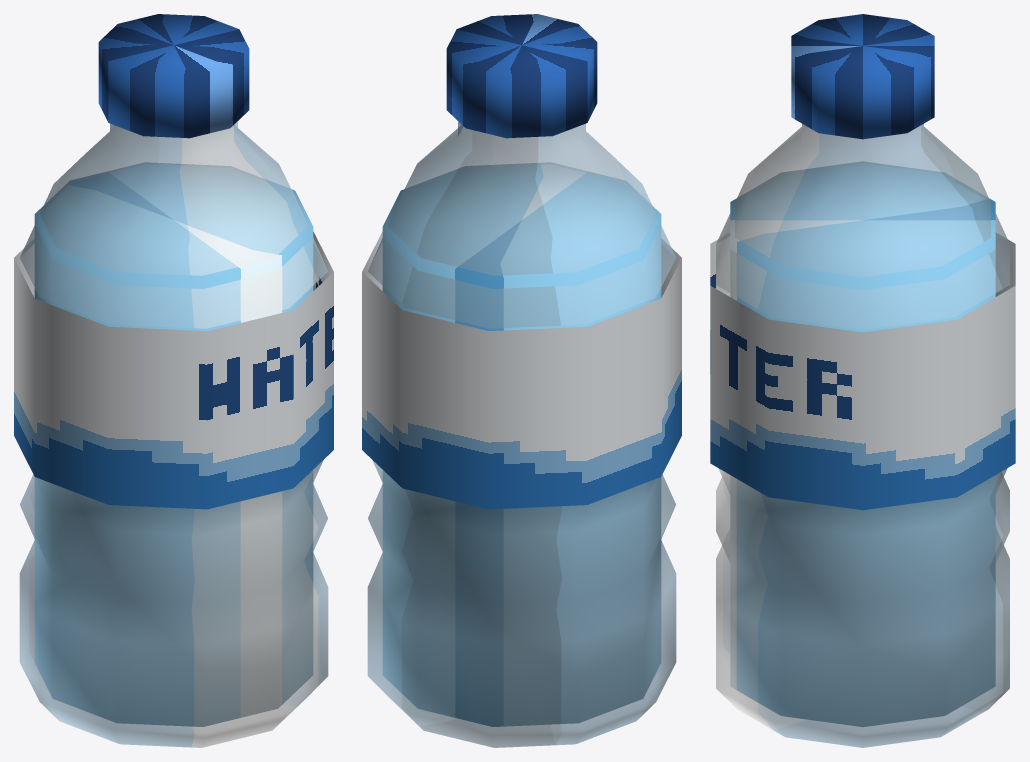
Rendered from drinks-waterBottle.glb.
3 views of the same model, side by side, from view 1: azimuth 30°, elevation 25°; view 2: azimuth 150°, elevation 25°; view 3: azimuth 270°, elevation 25° (orthographic).
Parts seen in each view (by area): view 1: drinks.waterBottle; view 2: drinks.waterBottle; view 3: drinks.waterBottle.
Boxes of the visible parts, x1,y1,x2,y2 form: drinks.waterBottle: (14,14,333,747); drinks.waterBottle: (362,14,681,747); drinks.waterBottle: (710,14,1015,747).
Bounding box in the file's own units: 0.8435 × 1.88 × 0.8022.
4 materials, 4 textured.
